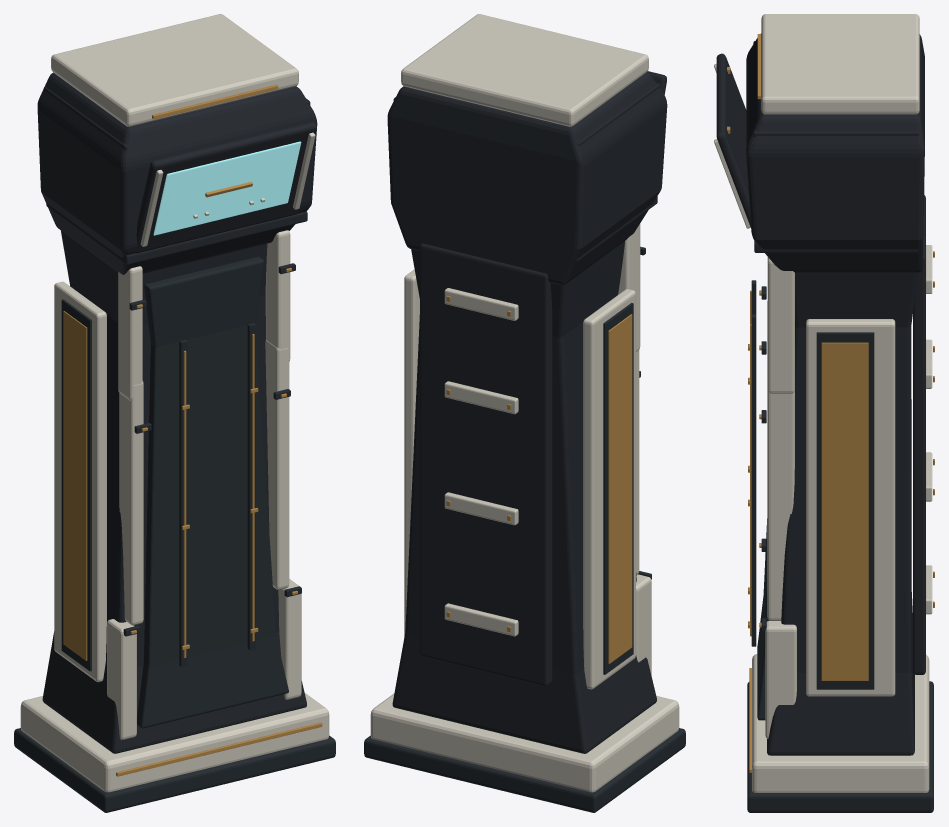
File: SM_Aurelion_KIT_Z11WitnessTablet.fbx
The picture shows the model from 3 angles, left to right: view 1: azimuth 30°, elevation 25°; view 2: azimuth 150°, elevation 25°; view 3: azimuth 270°, elevation 25°; orthographic projection.
Visible parts, largest first — view 1: SM_Aurelion_KIT_Z11WitnessTablet; view 2: SM_Aurelion_KIT_Z11WitnessTablet; view 3: SM_Aurelion_KIT_Z11WitnessTablet.
Part boxes in pixels (left/top/right/bottom): SM_Aurelion_KIT_Z11WitnessTablet: left=14, top=14, right=335, bottom=812; SM_Aurelion_KIT_Z11WitnessTablet: left=364, top=14, right=685, bottom=812; SM_Aurelion_KIT_Z11WitnessTablet: left=714, top=14, right=934, bottom=812.
Size of the model in its own units: 54.6 by 44.35 by 155.
